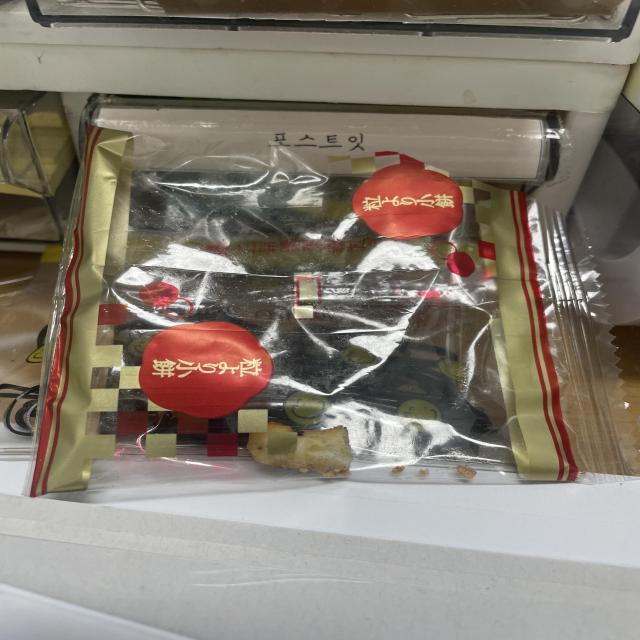litter: (25, 107, 636, 494)
